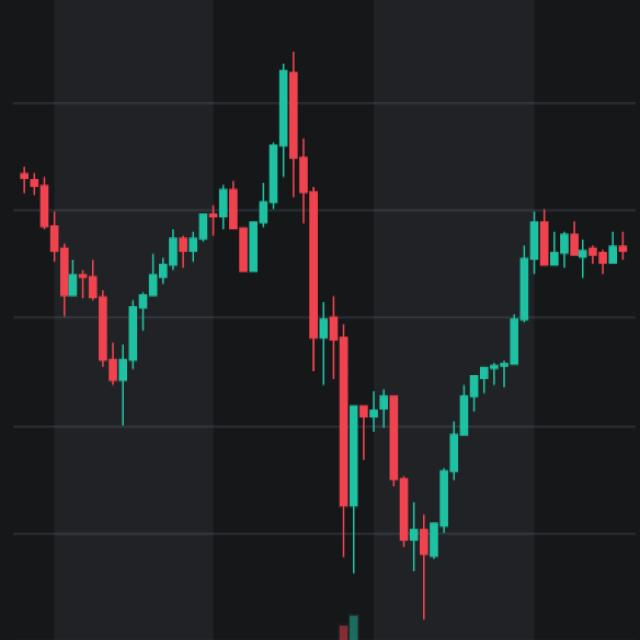Inverse-Head-Shoulders: (303, 216, 546, 594)
